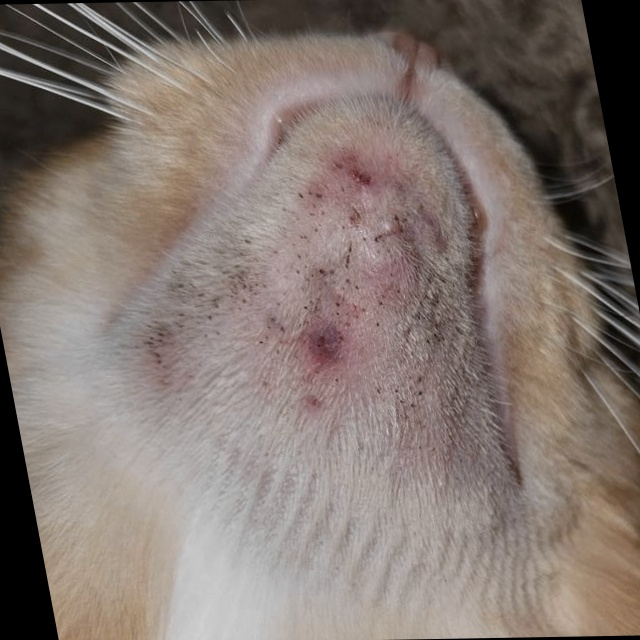acne: (93, 157, 493, 431)
